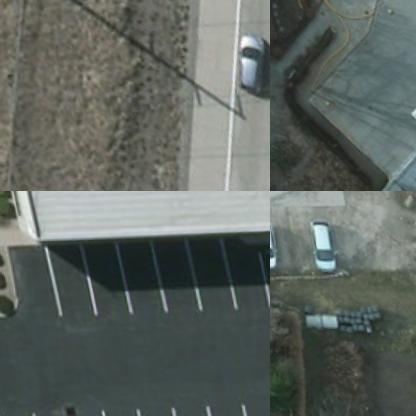car: (221, 25, 269, 97), (300, 220, 332, 270), (270, 215, 277, 274)
